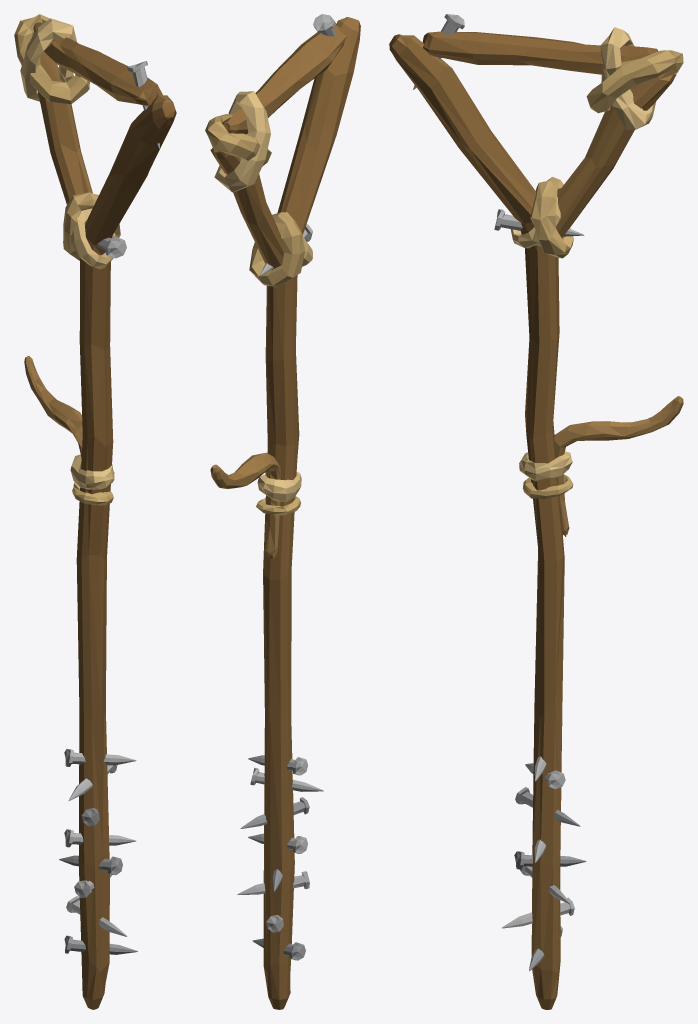
File: crutch.obj
3 views of the same model, side by side, from view 1: azimuth 30°, elevation 25°; view 2: azimuth 150°, elevation 25°; view 3: azimuth 270°, elevation 25° (orthographic). The views are drawn at different scales.
Visible parts, largest first — view 1: crutch_Material; view 2: crutch_Material; view 3: crutch_Material.
Boxes of the visible parts, x1,y1,x2,y2 form: crutch_Material: (14,14,176,1009); crutch_Material: (205,14,360,1009); crutch_Material: (389,14,683,1009).
Bounding box in the file's own units: 0.0858 × 1.1 × 0.2959.
